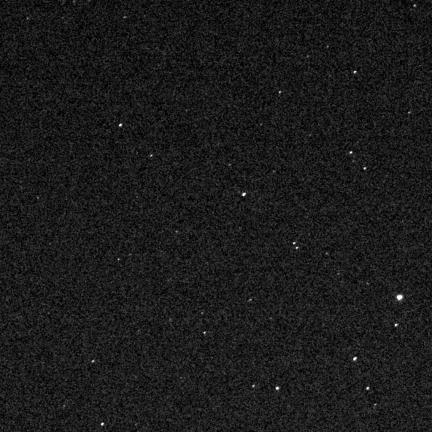blob: (397, 295, 403, 301), (353, 357, 357, 361), (252, 385, 256, 389), (354, 71, 358, 75), (119, 124, 123, 127), (364, 167, 367, 171), (276, 387, 279, 390), (242, 193, 245, 196), (366, 387, 369, 390), (395, 324, 398, 326)
